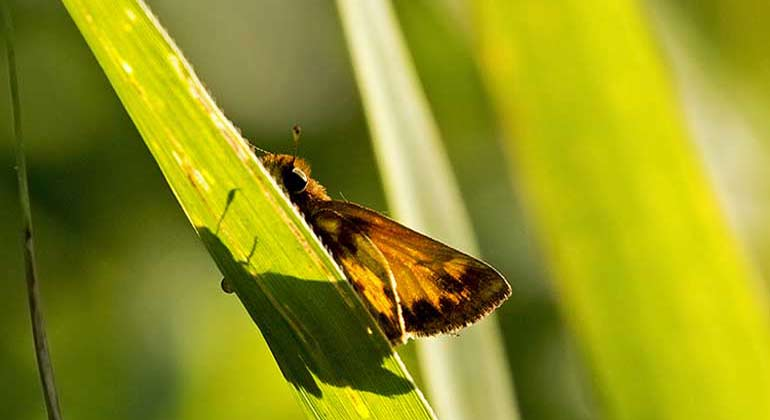Rice_skipper: (257, 140, 517, 339)
